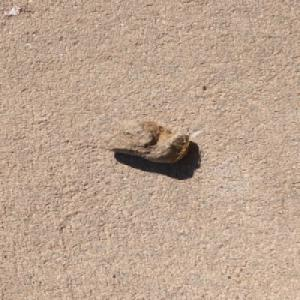Rock: (97, 119, 192, 163)
